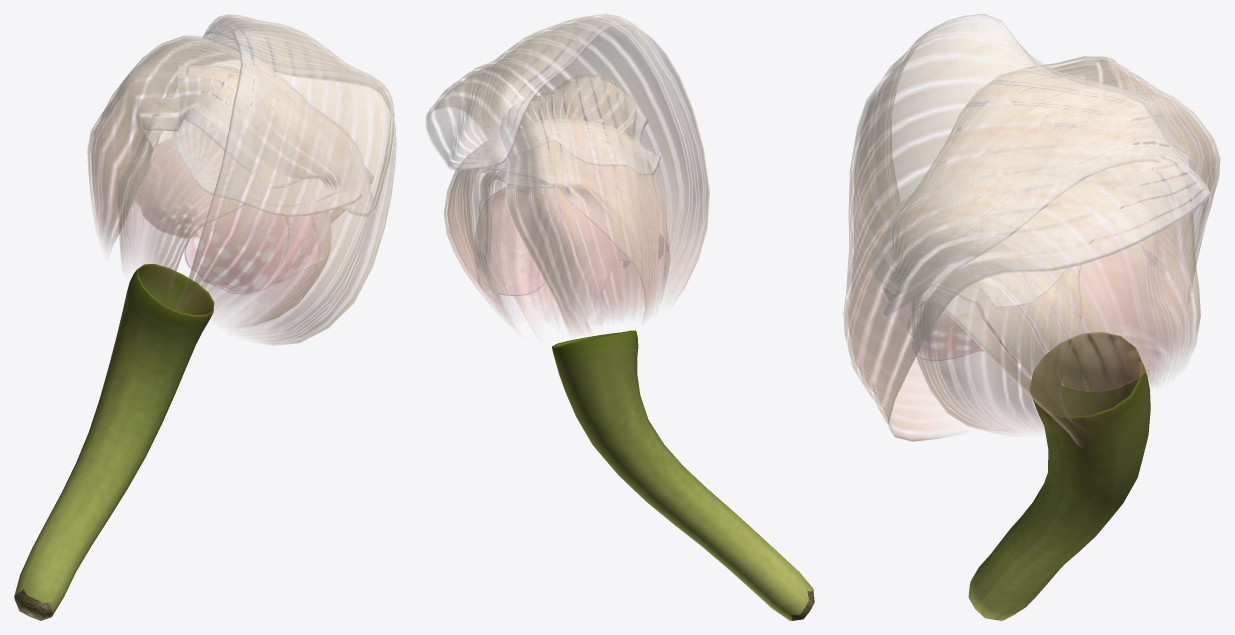
The model's file is flower.glb.
3 renders of one model, left to right at view 1: azimuth 30°, elevation 25°; view 2: azimuth 150°, elevation 25°; view 3: azimuth 270°, elevation 25°, orthographic. The views are drawn at different scales.
Parts seen in each view (by area): view 1: 兰花_时间切片模型; view 2: 兰花_时间切片模型; view 3: 兰花_时间切片模型.
Boxes of the visible parts, box(x1,y1,x2,y2) form: 兰花_时间切片模型: box(14, 14, 396, 620); 兰花_时间切片模型: box(425, 14, 814, 620); 兰花_时间切片模型: box(843, 14, 1220, 620).
Size of the model in its own units: 1.78 by 2.49 by 1.17.
2 materials, 2 textured.
